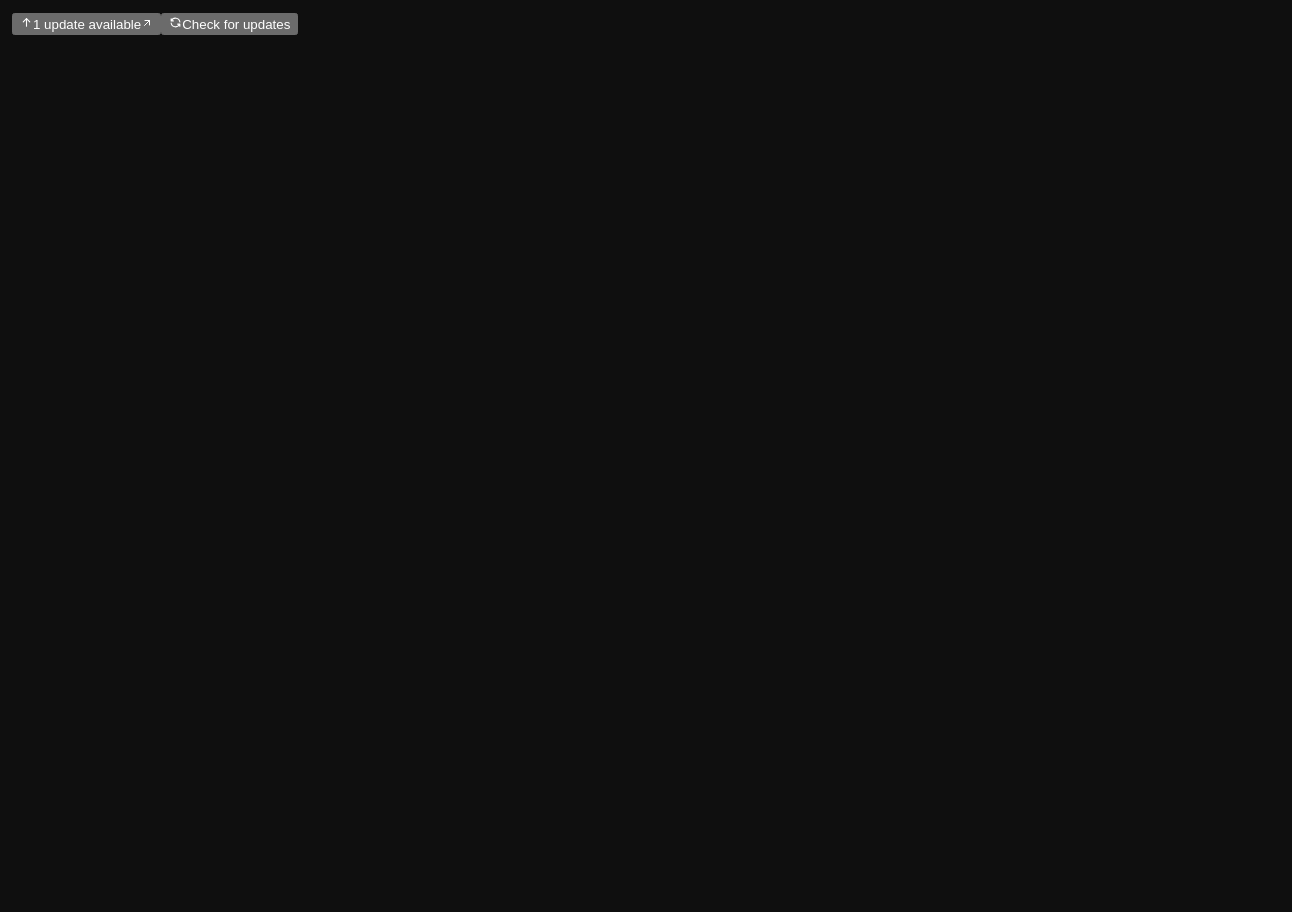
provider update toast › remembers a dismissed release and reopens it from the compact Providers footer
Earlier steps of the test are not shown.
Click the button "1 update available" at (87, 24), box [12,13,161,35]
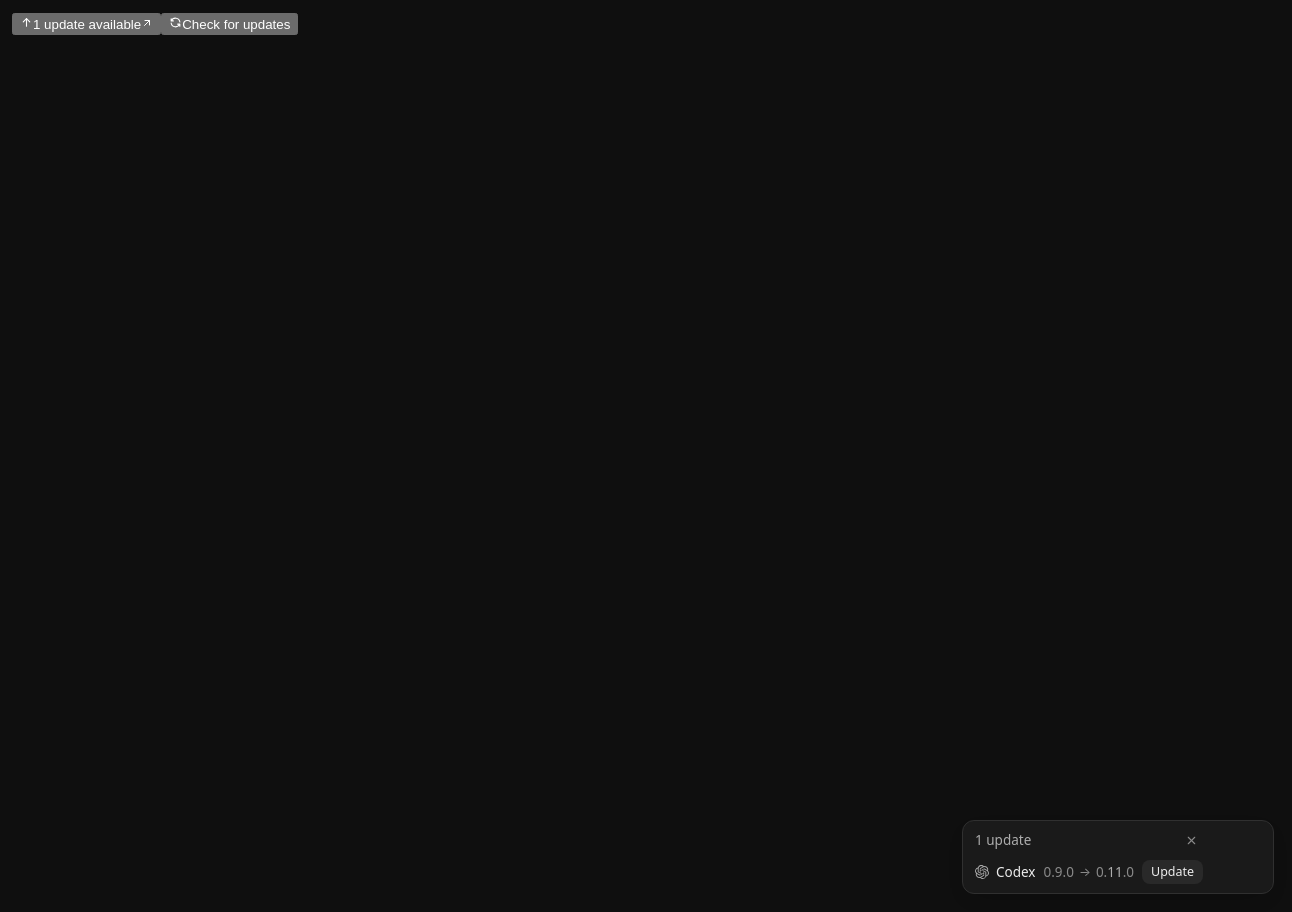
Now the button "Update" is shown, box [1142,860,1203,884]
